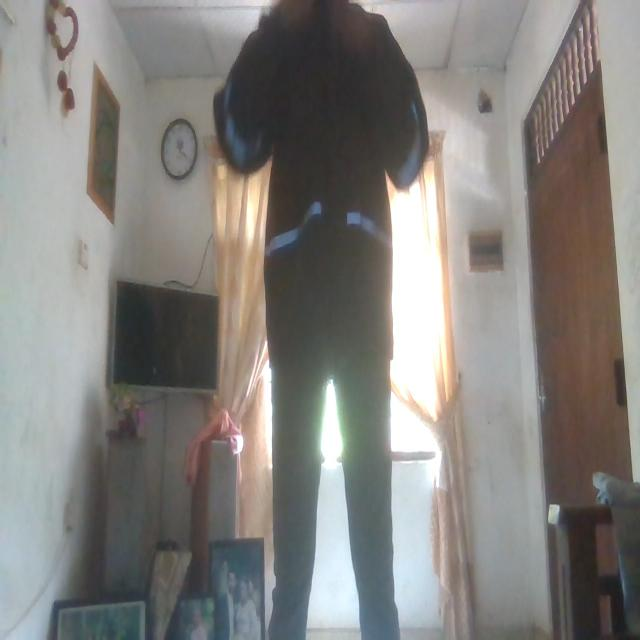Jacket_Wearer: (216, 11, 420, 357)
Person: (216, 1, 422, 640)
